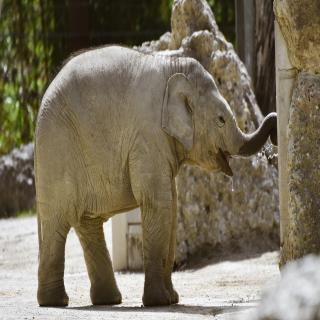Elephant: (32, 43, 282, 320)
